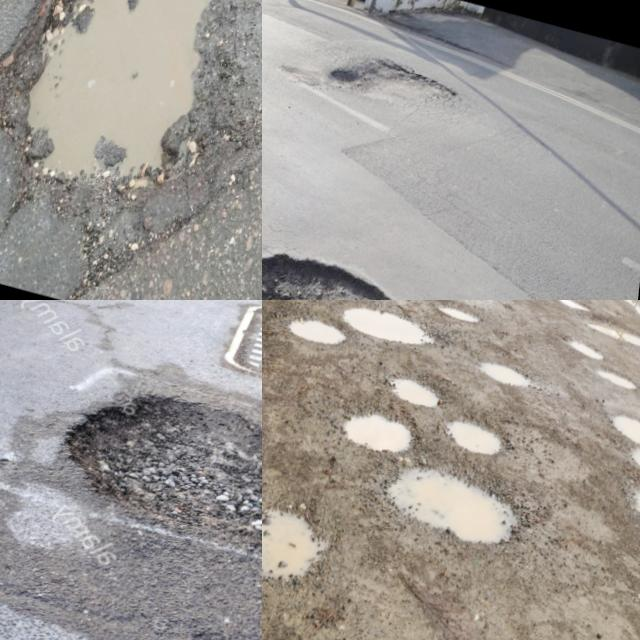Potholes: (0, 323, 262, 618), (0, 0, 262, 256), (271, 5, 488, 168), (307, 335, 525, 492), (363, 411, 556, 566), (262, 176, 499, 300), (269, 300, 466, 411), (262, 485, 371, 625), (474, 314, 589, 433), (534, 300, 640, 428), (559, 366, 640, 509), (589, 423, 640, 617), (385, 300, 511, 356), (483, 300, 612, 331)
